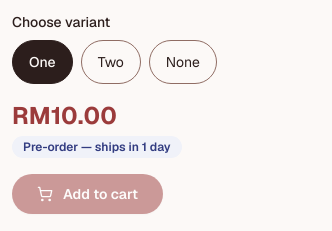
Scenario: VariantPicker behaviour › pre-order wording: 1 day is singular, other lead days stay plural, no lead days shows no days
Click the button "Two". click: (111, 62)
box: [81,40,141,84]
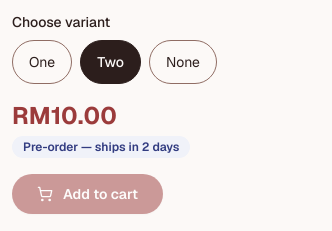
Result: the text "Pre-order — ships in 2 days" is shown at [12,136,190,158]
Click the button "None". click: (183, 62)
box: [149,40,217,84]
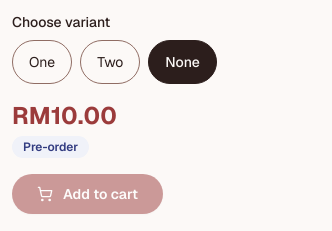
Expected: the text "Pre-order" is shown, [12,136,89,158]
Result: the text "ships in" is gone
